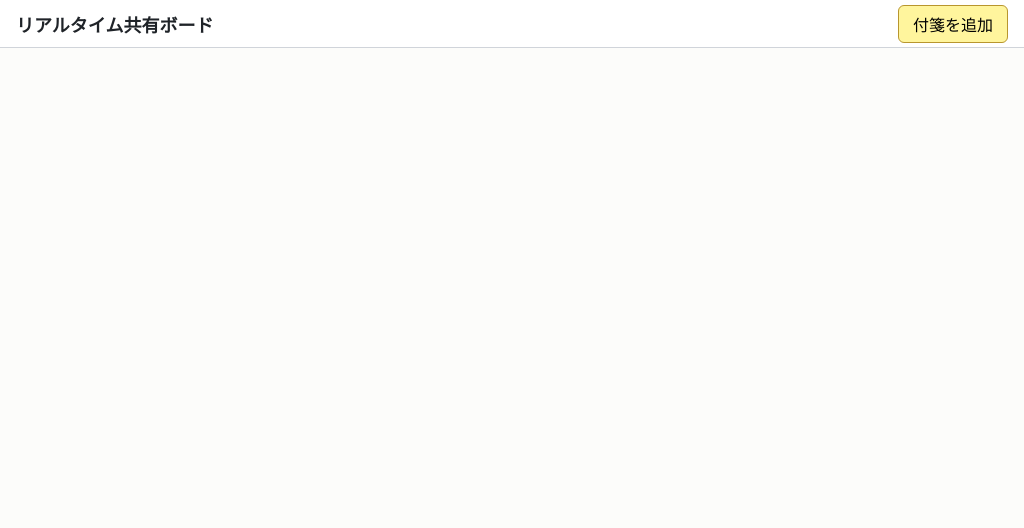
付箋の追加 › 「付箋を追加」を押すと、文字が空の付箋が1枚増える
The width and height of the screenshot is (1024, 528).
Click the button "付箋を追加". click: (953, 24)
box: [898,4,1008,42]
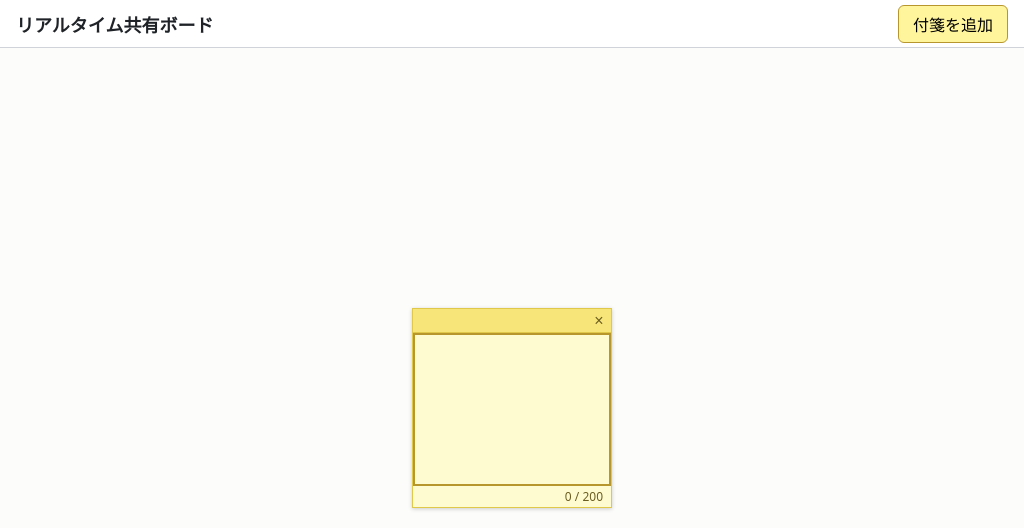
Now the text box named "付箋の文字" is empty, box [413,333,611,486]
